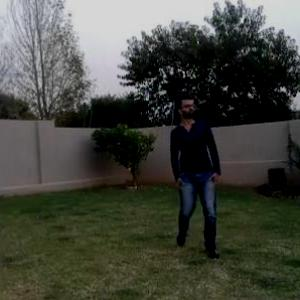follow: (165, 85, 226, 260)
